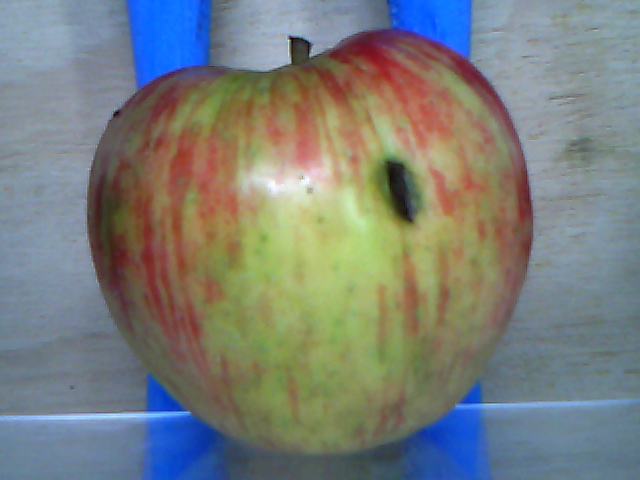puncture: (382, 156, 422, 223)
